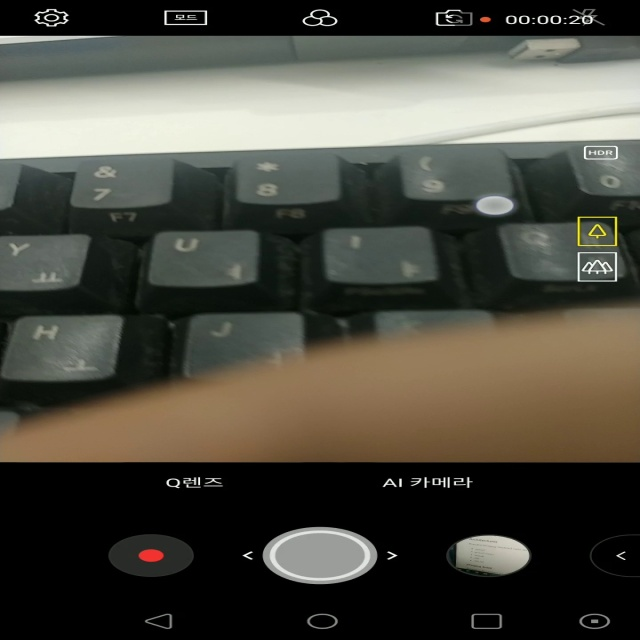Cursor: (472, 195, 517, 217)
